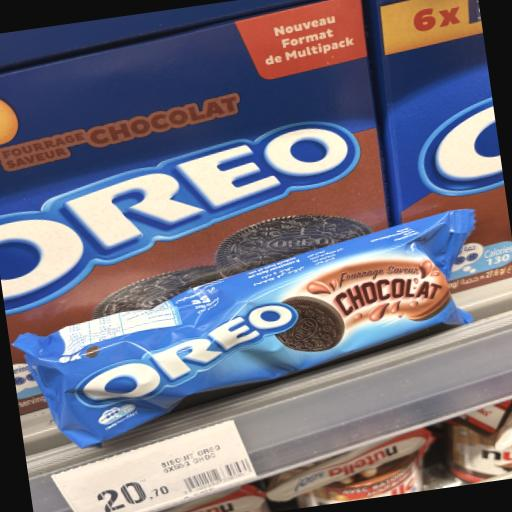oreo: (1, 212, 512, 467)
